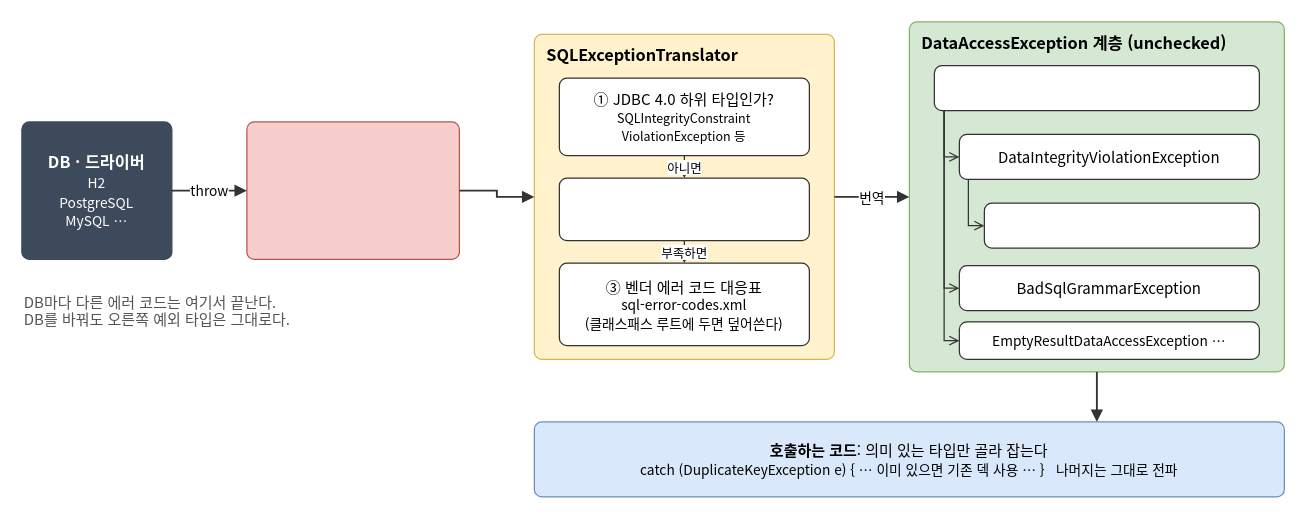
Image size: 1306x519. Some labels were removed from this diagram. Here are the shapes that lost their labels. From the top down, the centre of each, then its label:
At [1096,87]: "DataAccessException".
At [352,190]: "SQLException checked 예외 SQLState: 23505 벤더 에러 코드: 23505 / 1062 …".
At [683,209]: "② 표준 SQLState 해석 23505 → 키 중복".
At [1121,225]: "DuplicateKeyException".
